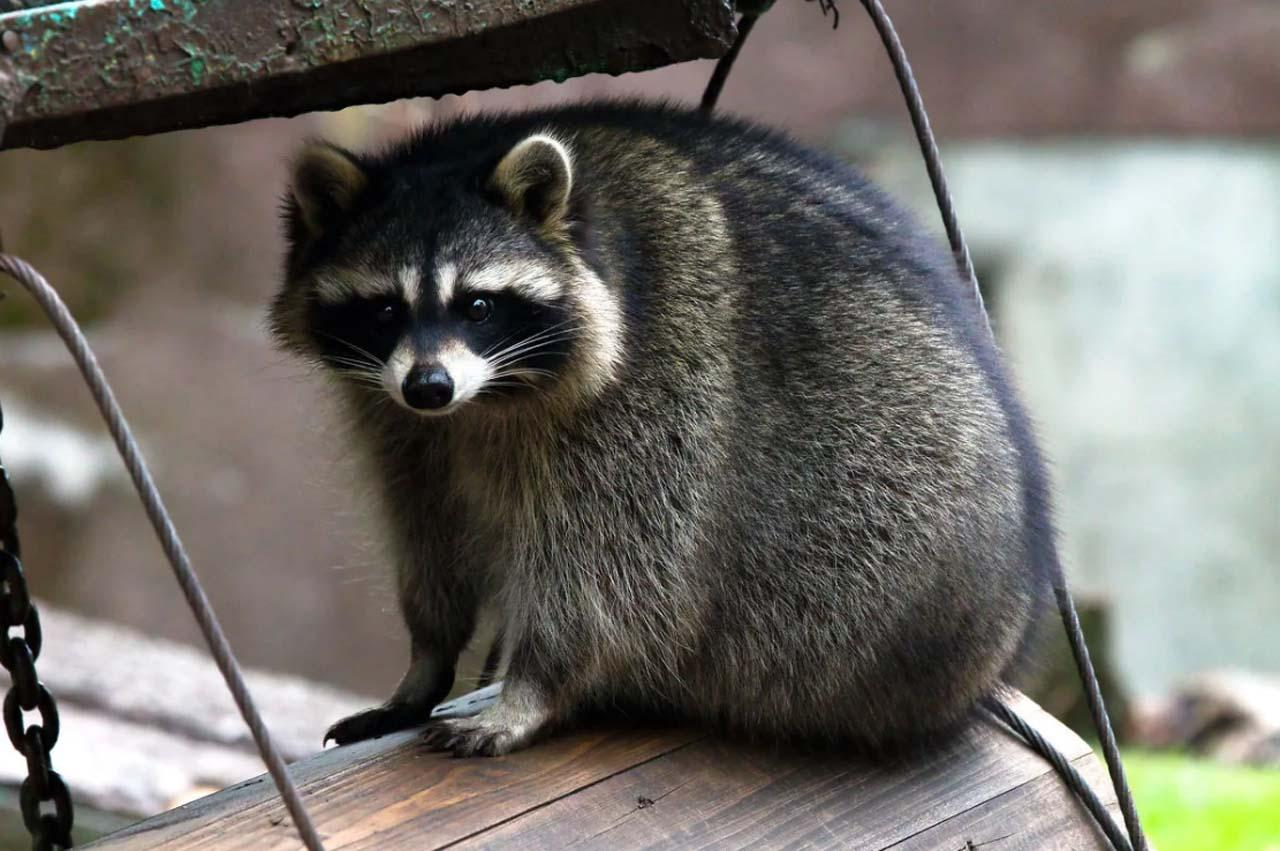raccoon: (269, 95, 1068, 781)
